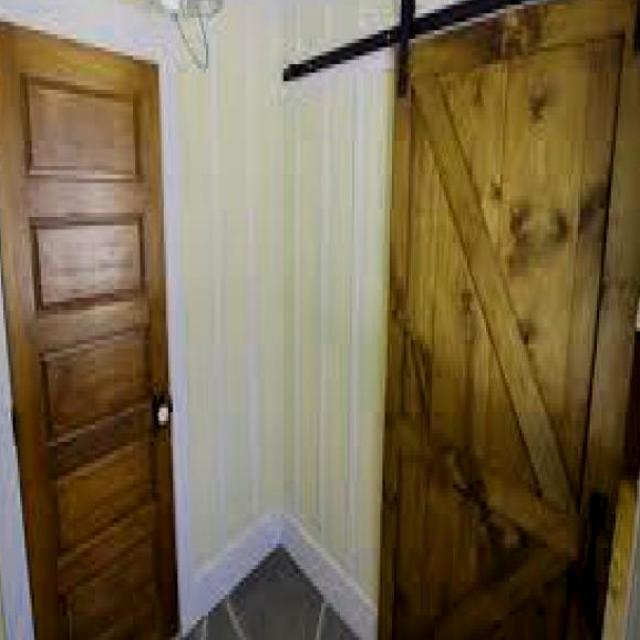door: (0, 22, 177, 638)
